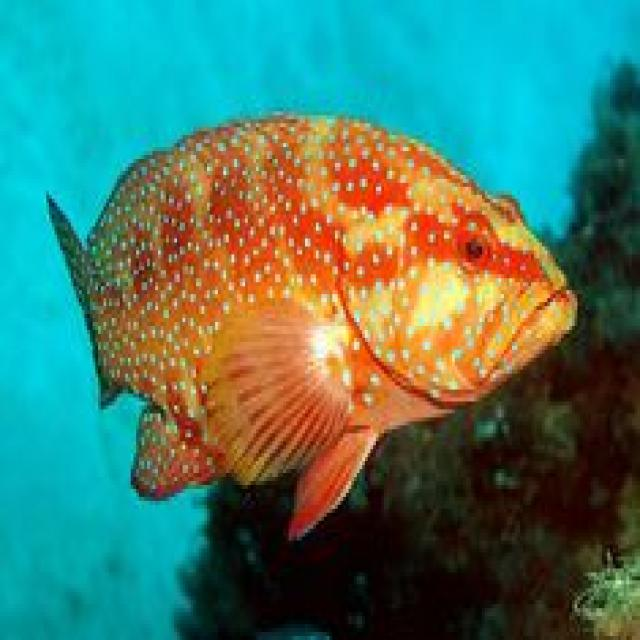Leopard coral grouper: (45, 114, 584, 547)
